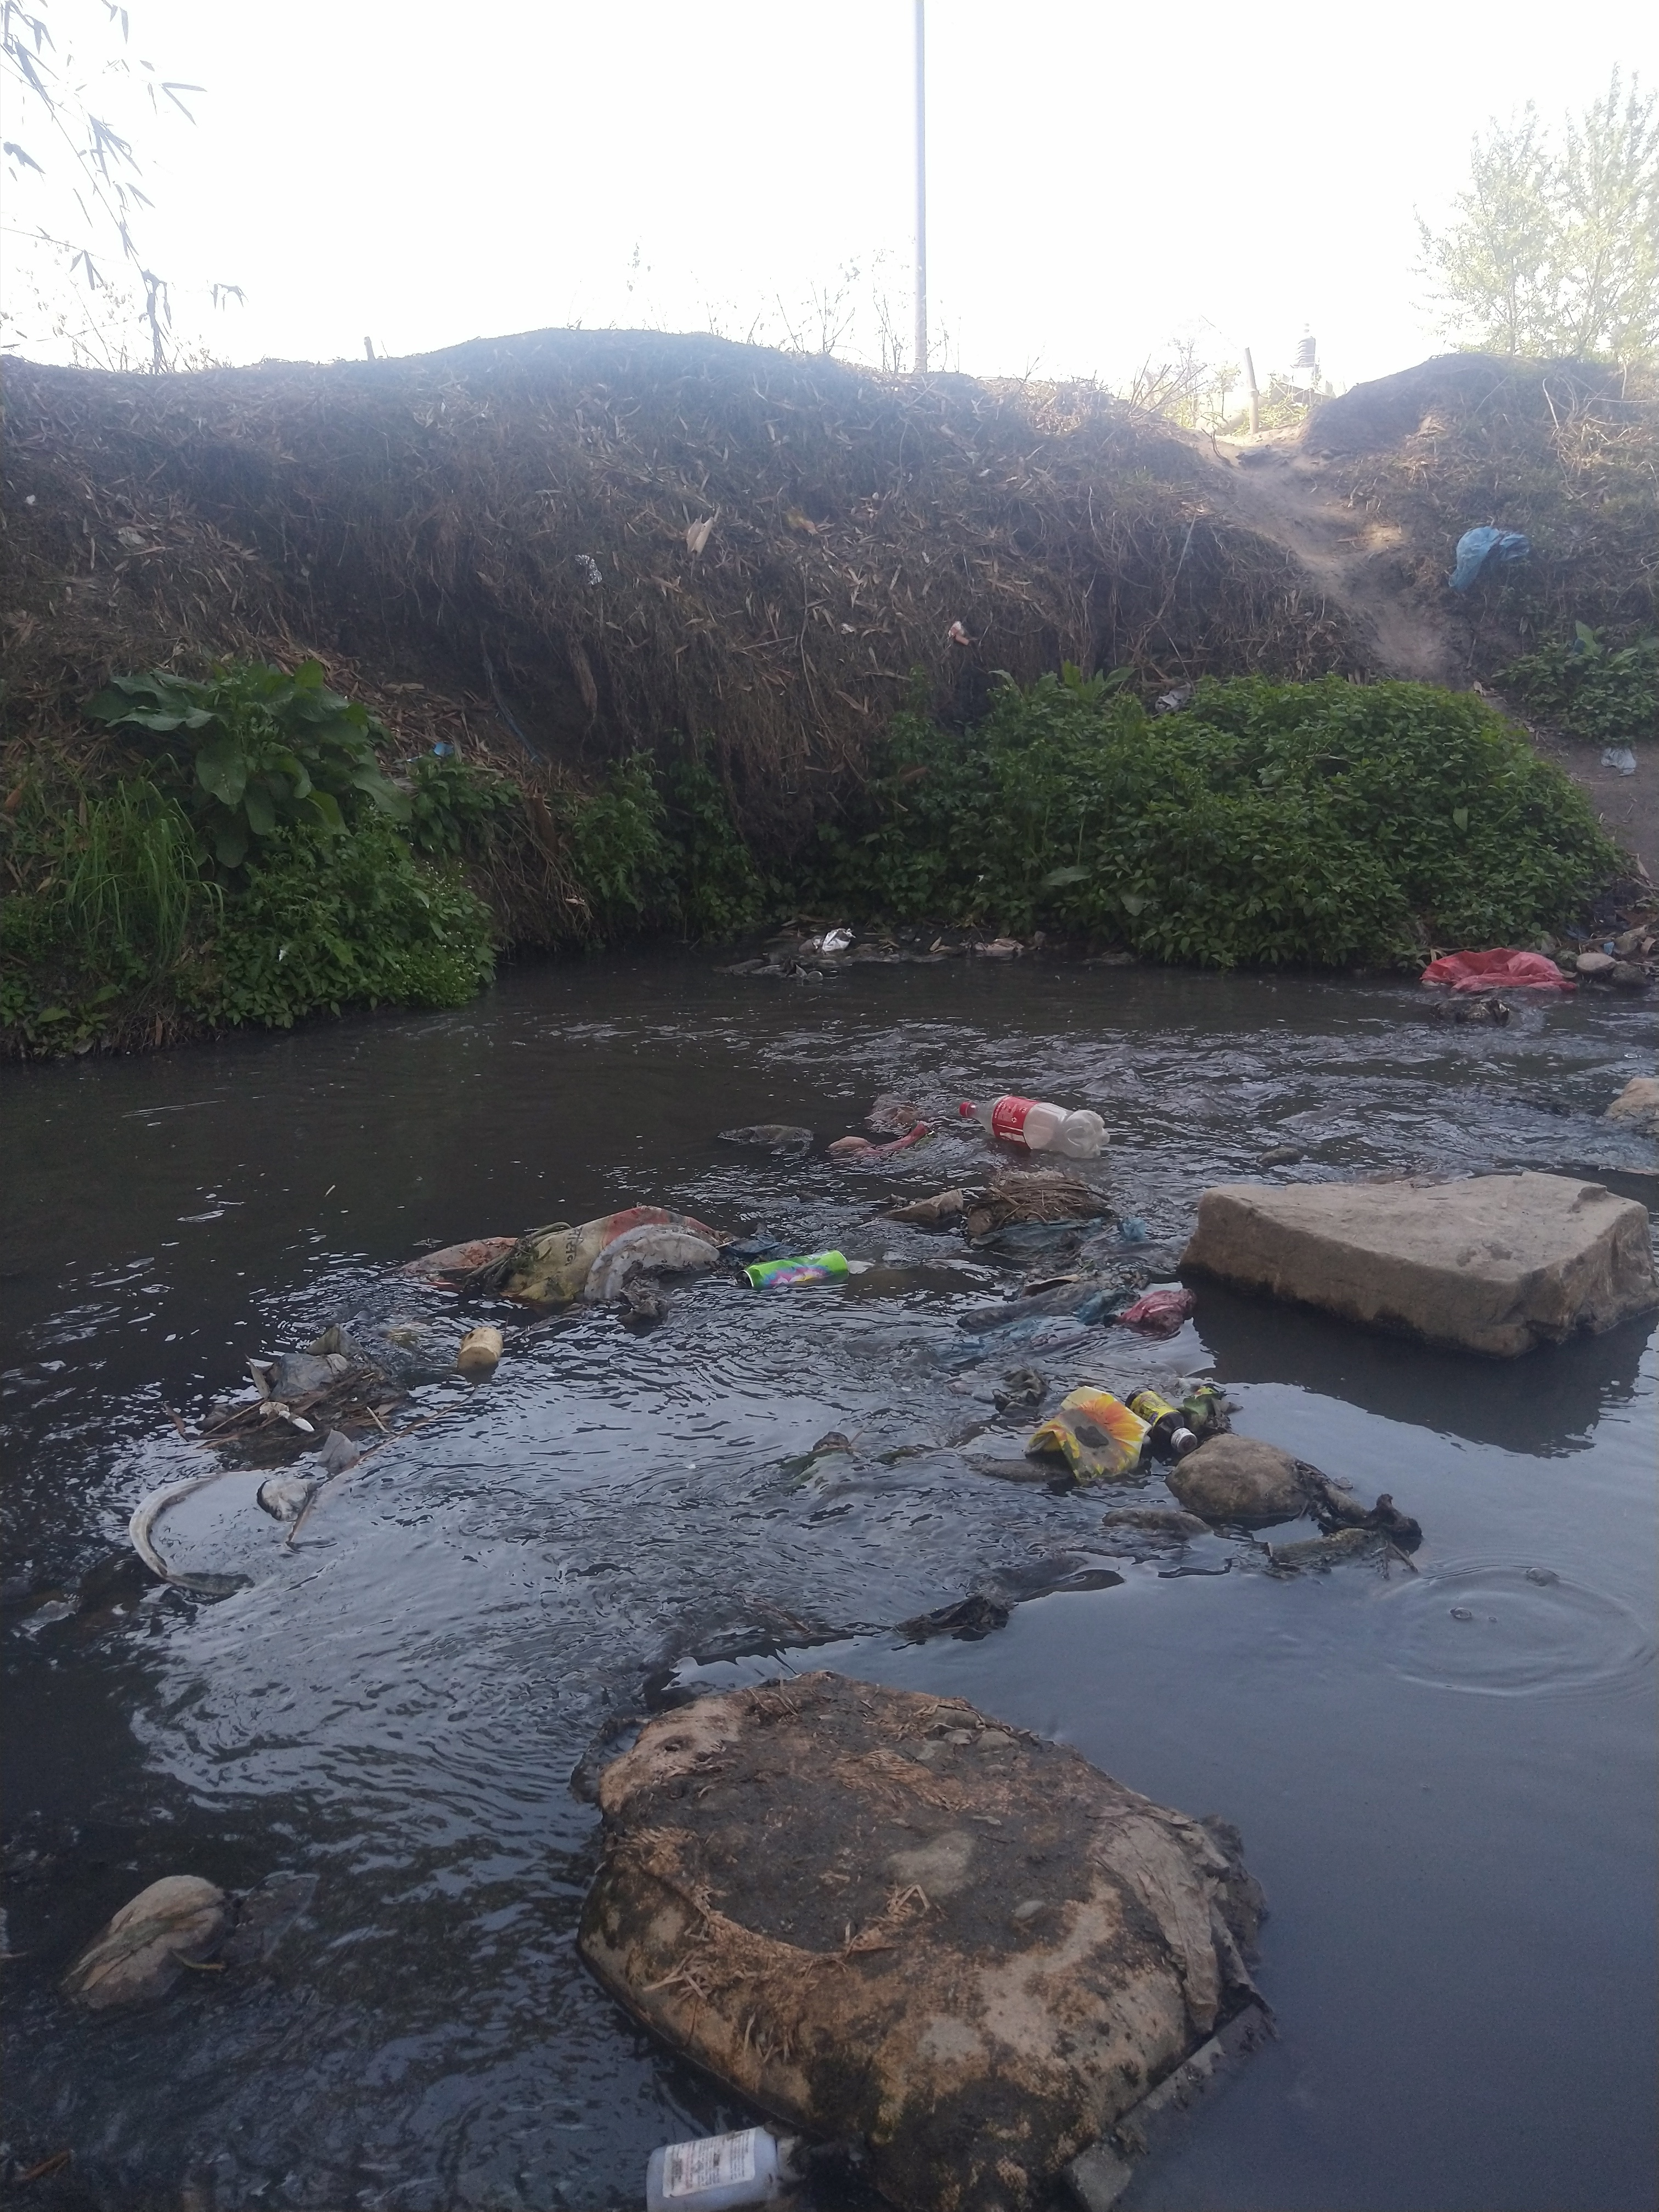Plastic Bottle: (647, 2125, 812, 2212), (960, 1094, 1110, 1158)
